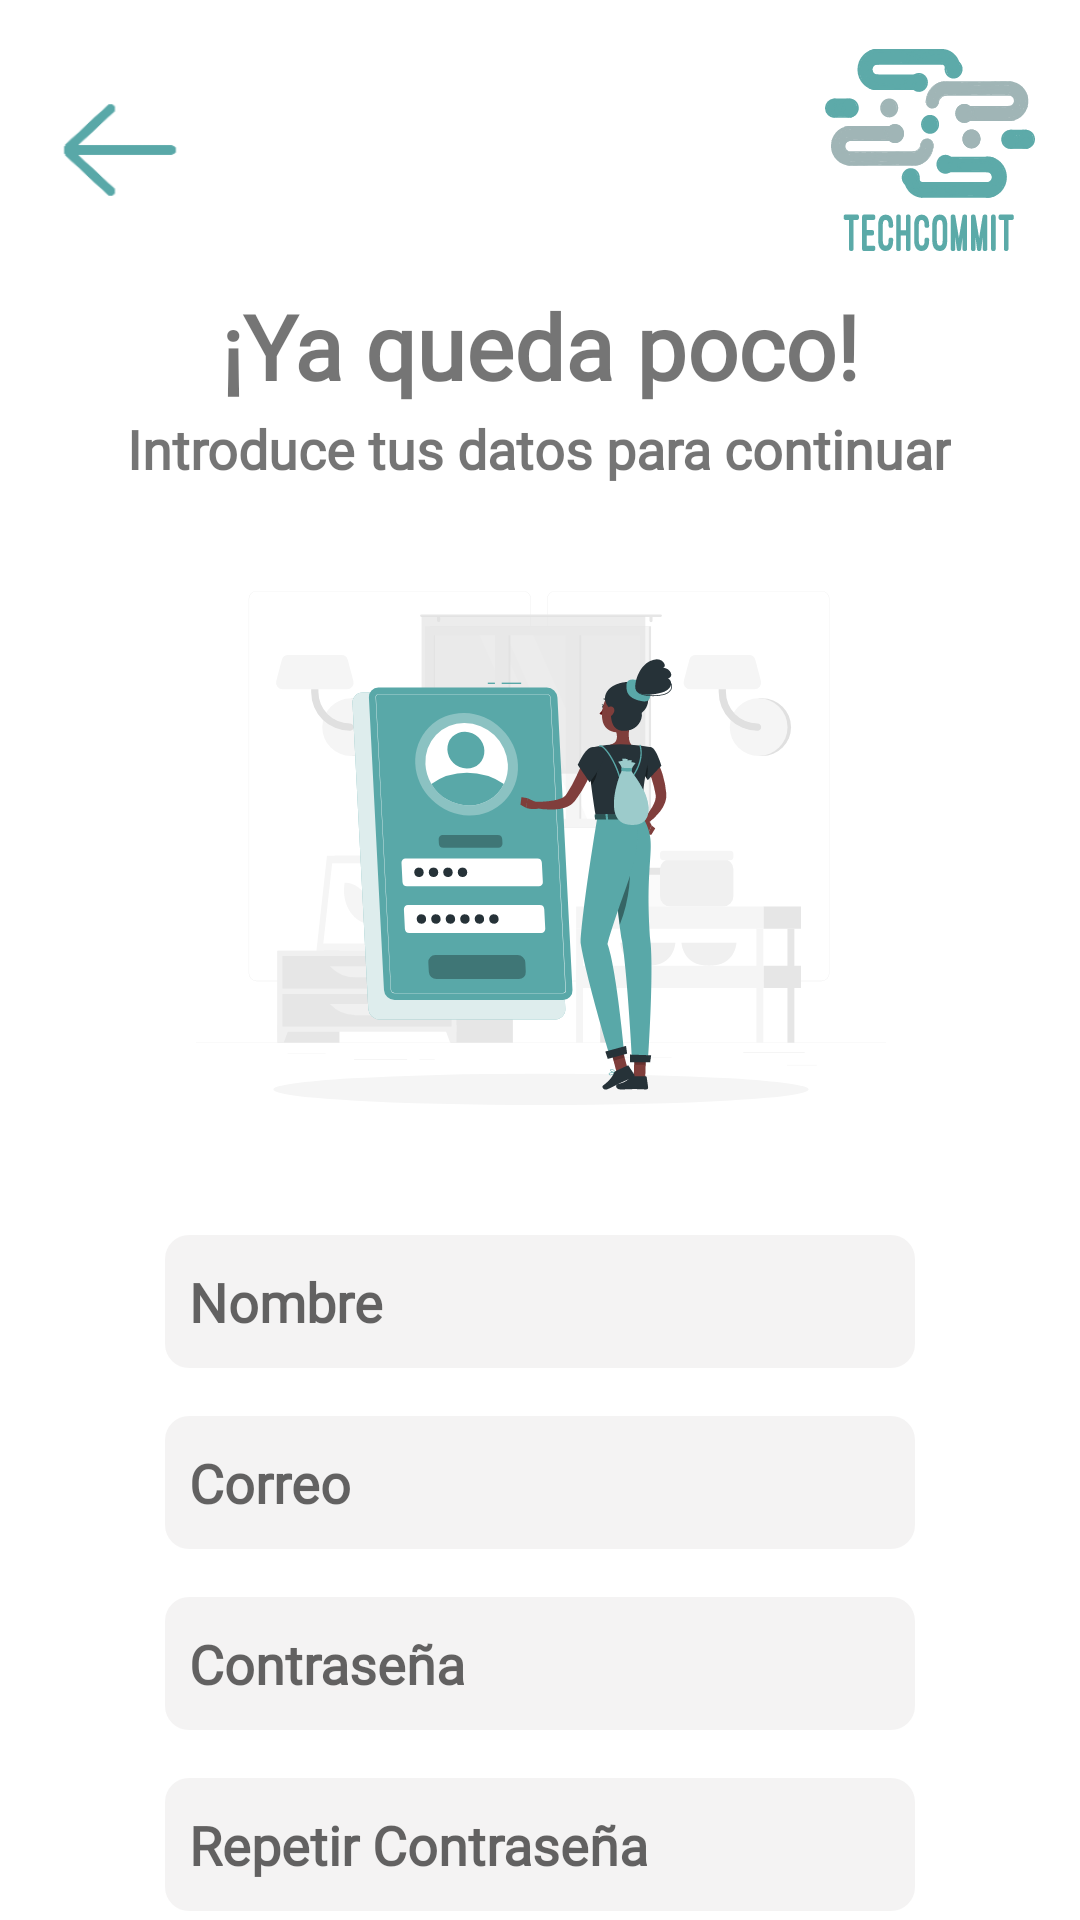

Screen size 1080x1920. Icon name, then its box in pixels as [left=x1, top=y1, right=x2, bottom=y2]:
flechaatras: [left=63, top=104, right=177, bottom=196]
